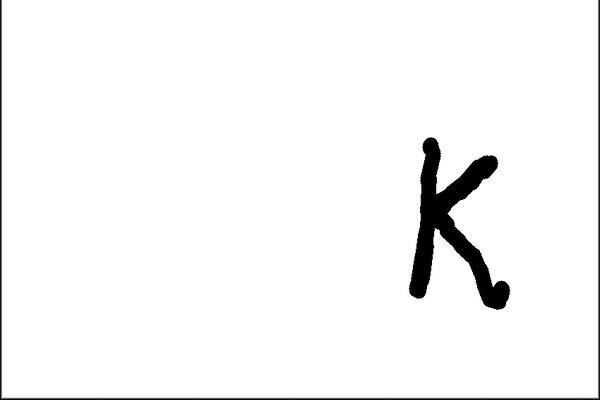K: (403, 127, 524, 318)
